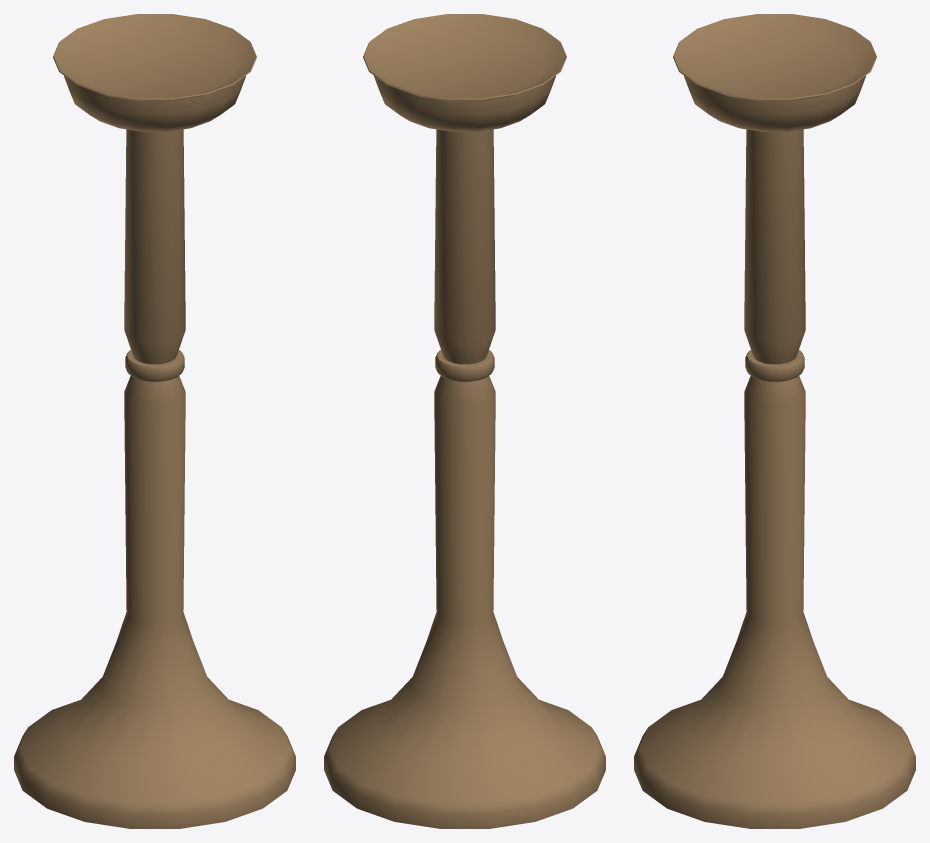
Rendered from candle_stand.fbx.
3 views of the same model, side by side, from view 1: azimuth 30°, elevation 25°; view 2: azimuth 150°, elevation 25°; view 3: azimuth 270°, elevation 25° (orthographic).
Parts seen in each view (by area): view 1: candle_stand; view 2: candle_stand; view 3: candle_stand.
Part boxes in pixels (x1,y1,x2,y2): candle_stand: (14, 14, 295, 828); candle_stand: (324, 14, 605, 828); candle_stand: (634, 14, 915, 828).
Size of the model in its own units: 60 by 59.09 by 168.
